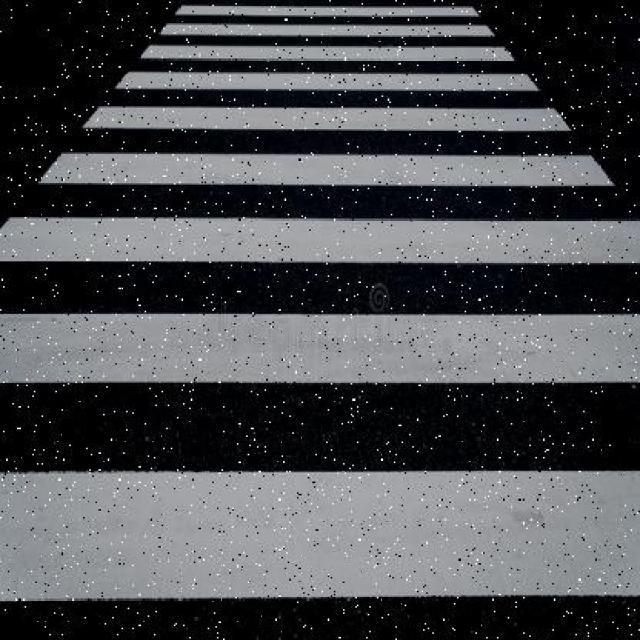intact_crosswalk: (0, 5, 640, 603)
